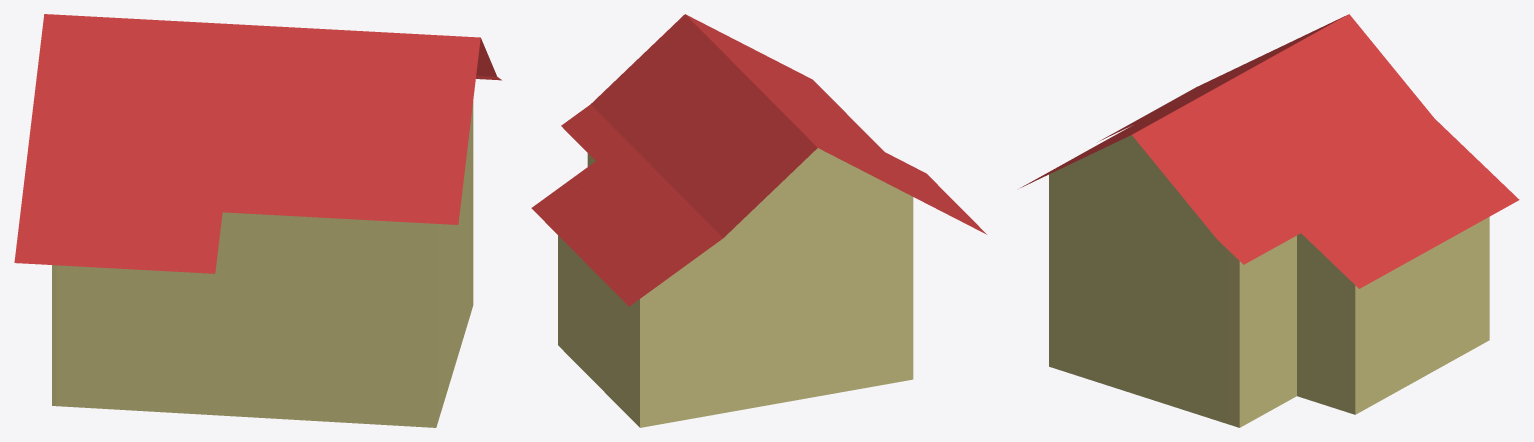
3 views of the same model, side by side, from view 1: azimuth 30°, elevation 25°; view 2: azimuth 150°, elevation 25°; view 3: azimuth 270°, elevation 25° (orthographic). The views are drawn at different scales.
Bounding box in the file's own units: 17.15 × 17.69 × 10.46.
